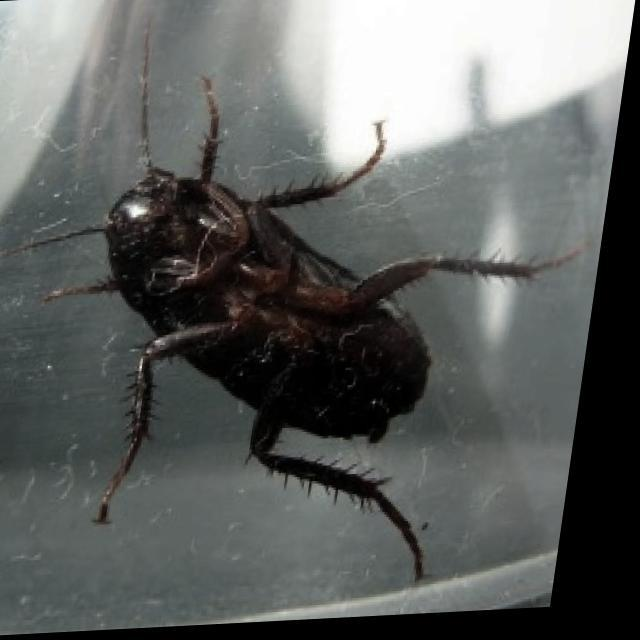cockroach: (7, 25, 588, 585)
